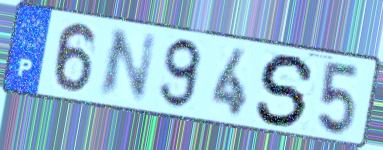4: (208, 46, 250, 121)
5: (314, 59, 361, 137)
6: (51, 19, 99, 97)
9: (156, 36, 206, 112)
N: (94, 27, 160, 103)
S: (253, 52, 319, 129)
